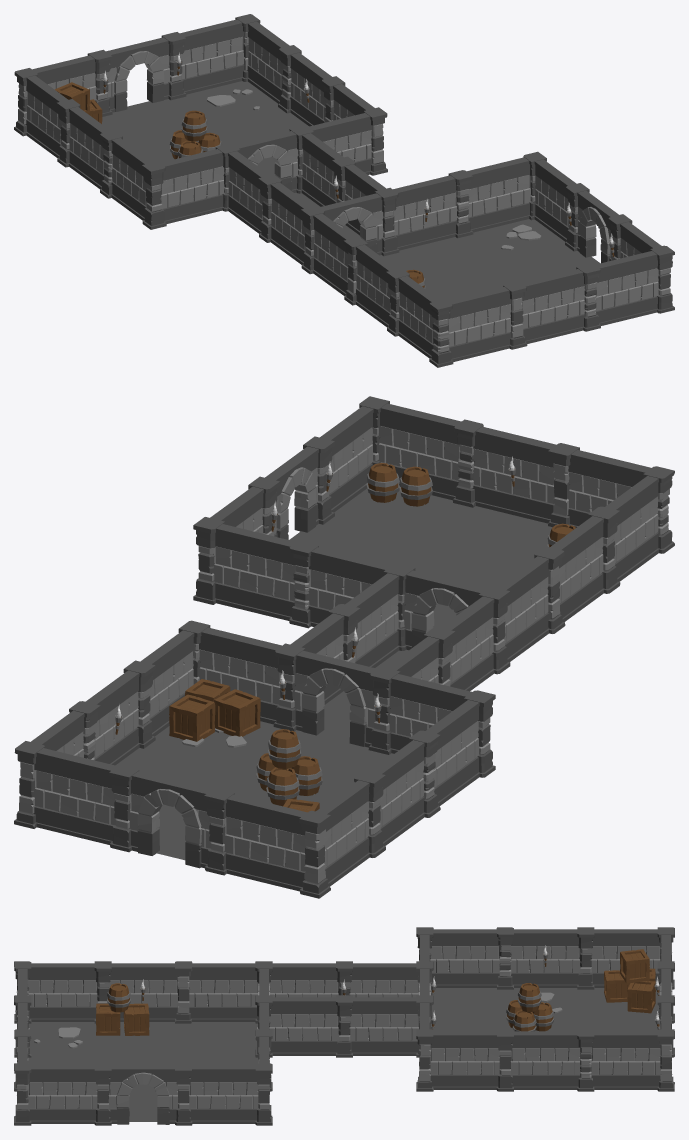
File: Low Poly Dungeon.fbx
3 views of the same model, one above another, from view 1: azimuth 30°, elevation 25°; view 2: azimuth 150°, elevation 25°; view 3: azimuth 270°, elevation 25° (orthographic). The views are drawn at different scales.
Visible parts, largest first — view 1: Wall.022, Wall.024, Wall.023, Wall.018, Wall.004, Wall.009, Gate.001, Wall, Wall.010, Wall.025, Wall.008, Wall.016 (+26 smaller); view 2: Wall.013, Wall.004, Wall.018, Wall.023, Gate.001, Gate.002, Wall.022, Wall.008, Wall.009, Wall.024, Wall.010, Wall.026 (+33 smaller); view 3: Wall.020, Wall.007, Wall.021, Wall.005, Wall.006, Wall.014, Wall.027, Wall.011, Wall.015, Wall.025, Wall.010, Gate.004 (+36 smaller).
Boxes of the visible parts, x1,y1,x2,y2 form: Wall.022: [595, 245, 674, 325]; Wall.024: [447, 281, 527, 361]; Wall.023: [521, 263, 600, 343]; Wall.018: [448, 157, 531, 238]; Wall.004: [161, 19, 244, 100]; Wall.009: [160, 143, 240, 223]; Gate.001: [87, 37, 170, 116]; Wall: [393, 175, 457, 250]; Wall.010: [111, 138, 166, 229]; Wall.025: [398, 276, 453, 367]; Wall.008: [308, 107, 387, 175]; Wall.016: [227, 151, 281, 242]; Wall.013: [224, 794, 330, 898]; Wall.004: [34, 748, 139, 852]; Wall.018: [213, 524, 318, 628]; Wall.023: [453, 419, 556, 523]; Gate.001: [129, 771, 234, 875]; Gate.002: [273, 643, 376, 747]; Wall.022: [359, 396, 461, 500]; Wall.008: [178, 620, 281, 724]; Wall.009: [368, 666, 471, 754]; Wall.024: [548, 443, 651, 527]; Wall.010: [425, 690, 495, 806]; Wall.026: [550, 506, 620, 622]; Wall.020: [189, 1063, 272, 1125]; Wall.007: [430, 1029, 513, 1091]; Wall.021: [28, 1063, 111, 1125]; Wall.005: [591, 1029, 674, 1091]; Wall.006: [511, 1029, 594, 1091]; Wall.014: [336, 995, 419, 1057]; Wall.027: [175, 961, 258, 1023]; Wall.011: [496, 927, 580, 989]; Wall.015: [255, 995, 338, 1057]; Wall.025: [14, 961, 97, 1023]; Wall.010: [416, 927, 500, 989]; Gate.004: [108, 1063, 192, 1125].
Bounding box in the file's own units: 1686 × 305 × 3287.
